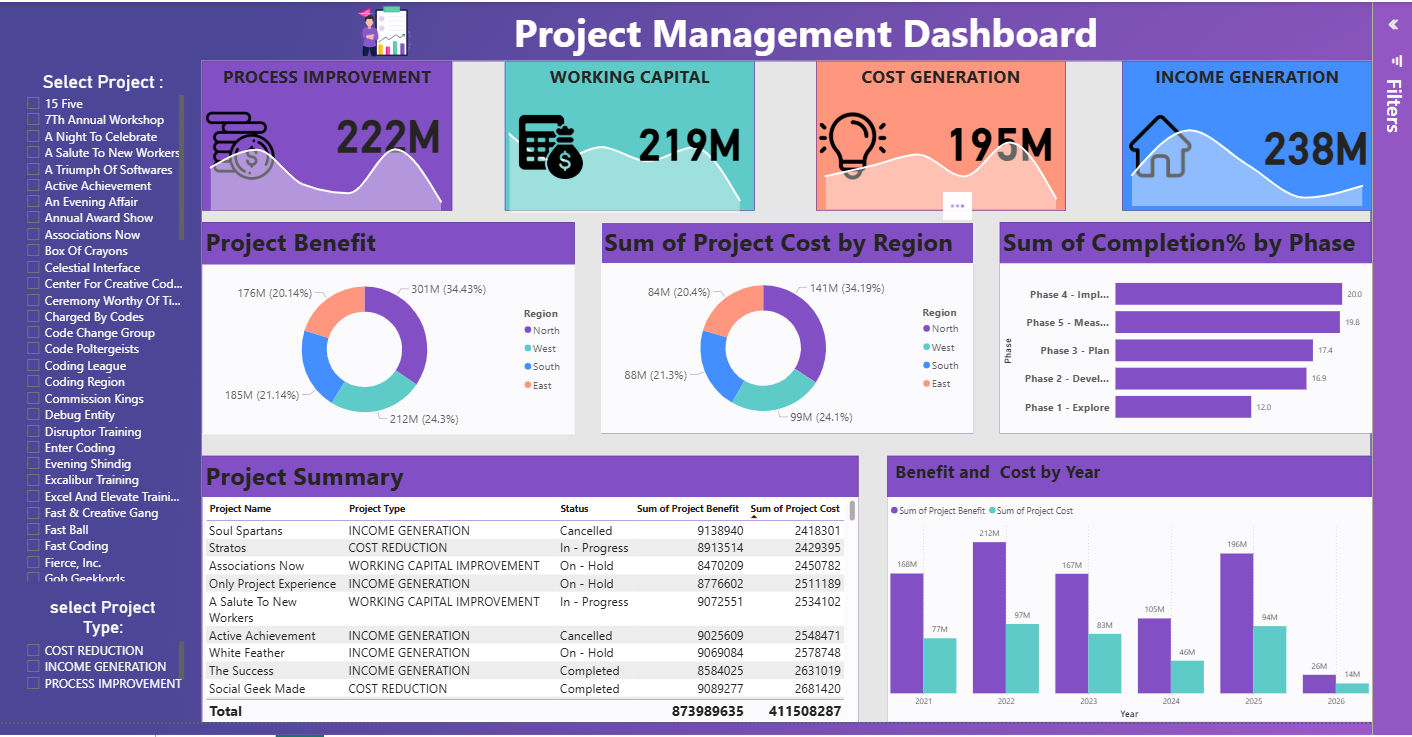

Layout of this report page (visuals, bound fields, positions):
{"tool":"powerbi","page":{"name":"dash pord","canvas":[2100,1100],"ordinal":0},"visuals":[{"type":"shape","box":[312.9,89.7,1785.6,1011.1],"z":0},{"type":"slicer","title":"Select Project :","fields":{"Values":["Project Management Dataset.Project Name"]},"box":[34.3,104.9,257.5,784.1],"z":1000},{"type":"slicer","title":"select Project Type:","fields":{"Values":["Project Management Dataset.Project Type"]},"box":[34.3,908.1,257.5,148.8],"z":2000},{"type":"shape","box":[314.8,89.7,381.5,228.9],"z":3000},{"type":"shape","box":[776.4,89.7,381.5,228.9],"z":4000},{"type":"shape","box":[1251.5,89.7,381.5,228.9],"z":5000},{"type":"shape","box":[1718.8,89.7,381.5,228.9],"z":6000},{"type":"shape","box":[314.8,335.8,568.5,322.4],"z":7000},{"type":"shape","box":[1531.9,335.8,568.5,322.4],"z":8000},{"type":"shape","box":[923.3,335.8,568.5,322.4],"z":9000},{"type":"shape","box":[314.8,692.5,1001.5,408.2],"z":10000},{"type":"shape","box":[1360.2,692.5,740.2,408.2],"z":11000},{"type":"textbox","box":[314.8,89.7,381.5,72.5],"z":12000},{"type":"image","box":[314.8,162.2,116.4,114.5],"z":13000},{"type":"card","fields":{"Values":["Daxpr.proceess"]},"box":[503.6,146.9,190.8,99.2],"z":14000},{"type":"areaChart","fields":{"Y":["Daxpr.proceess"],"Category":["pr.End Date.Variation.Date Hierarchy.Year"]},"box":[312.9,185,381.5,139.3],"z":15000},{"type":"textbox","box":[1718.8,89.7,381.5,72.5],"z":16000},{"type":"textbox","box":[776.4,89.7,381.5,72.5],"z":17000},{"type":"textbox","box":[1251.5,89.7,381.5,72.5],"z":18000},{"type":"textbox","box":[1718.8,89.7,381.5,72.5],"z":19000},{"type":"areaChart","fields":{"Y":["Daxpr.working"],"Category":["pr.End Date.Variation.Date Hierarchy.Year"]},"box":[768.8,171.7,381.5,156.4],"z":20000},{"type":"image","box":[776.4,166,141.2,110.6],"z":21000},{"type":"card","fields":{"Values":["Daxpr.working"]},"box":[959.6,162.2,198.4,91.6],"z":22000},{"type":"image","box":[1251.5,162.2,112.6,114.5],"z":23000},{"type":"card","fields":{"Values":["Daxpr.cost"]},"box":[1436.5,162.2,190.8,91.6],"z":24000},{"type":"image","box":[1718.8,167.9,116.4,104.9],"z":25000},{"type":"card","fields":{"Values":["Daxpr.incme"]},"box":[1928.7,166,171.7,95.4],"z":26000},{"type":"areaChart","fields":{"Y":["Daxpr.incme"],"Category":["pr.End Date.Variation.Date Hierarchy.Year"]},"box":[1718.8,181.2,381.5,135.4],"z":27000},{"type":"areaChart","fields":{"Y":["Daxpr.cost"],"Category":["pr.End Date.Variation.Date Hierarchy.Year"]},"box":[1251.5,188.9,381.5,133.5],"z":28000},{"type":"textbox","box":[923.3,335.8,568.5,64.9],"z":29000},{"type":"textbox","box":[314.8,335.8,568.5,64.9],"z":30000},{"type":"textbox","box":[1531.9,335.8,568.5,64.9],"z":31000},{"type":"donutChart","title":"Project Benefit ","fields":{"Y":["Sum(Project Management Dataset.Project Benefit)"],"Category":["Project Management Dataset.Region"]},"box":[314.8,400.6,568.5,259.4],"z":32000},{"type":"donutChart","fields":{"Y":["Sum(Project Management Dataset.Project Cost)"],"Category":["Project Management Dataset.Region"]},"box":[923.3,398.7,568.5,259.4],"z":33000},{"type":"clusteredBarChart","fields":{"Y":["Sum(pr.Completion%)"],"Category":["pr.Phase"]},"box":[1531.9,398.7,568.5,259.4],"z":34000},{"type":"textbox","box":[314.8,692.5,1001.5,63],"z":35000},{"type":"tableEx","fields":{"Values":["Project Management Dataset.Project Name","Project Management Dataset.Project Type","Project Management Dataset.Status","Sum(Project Management Dataset.Project Benefit)","Sum(Project Management Dataset.Project Cost)"]},"box":[314.8,755.5,1001.5,345],"z":36000},{"type":"clusteredColumnChart","fields":{"Y":["Sum(Project Management Dataset.Project Benefit)","Sum(Project Management Dataset.Project Cost)"],"Category":["pr.End Date.Variation.Date Hierarchy.Year"]},"box":[1360.2,755.5,740.2,343.4],"z":37000},{"type":"textbox","box":[1360.2,692.5,740.2,63],"z":38000},{"type":"image","box":[503.6,0,177.4,89.7],"z":39000},{"type":"textbox","box":[373.9,0,1724.6,89.7],"z":40000}]}

Visuals, with their boxes in screenshot pixels (x1, y1, x2, y2), scaled from the page's 2100x1100 canvas onto the 1412x737 screenshot:
shape: [x1=210, y1=60, x2=1411, y2=736]
"Select Project :" slicer: [x1=23, y1=70, x2=196, y2=596]
"select Project Type:" slicer: [x1=23, y1=608, x2=196, y2=708]
shape: [x1=212, y1=60, x2=468, y2=213]
shape: [x1=522, y1=60, x2=779, y2=213]
shape: [x1=841, y1=60, x2=1098, y2=213]
shape: [x1=1156, y1=60, x2=1411, y2=213]
shape: [x1=212, y1=225, x2=594, y2=441]
shape: [x1=1030, y1=225, x2=1411, y2=441]
shape: [x1=621, y1=225, x2=1003, y2=441]
shape: [x1=212, y1=464, x2=885, y2=736]
shape: [x1=915, y1=464, x2=1411, y2=736]
textbox: [x1=212, y1=60, x2=468, y2=109]
image: [x1=212, y1=109, x2=290, y2=185]
card - Daxpr.proceess: [x1=339, y1=98, x2=467, y2=165]
areaChart - Daxpr.proceess x pr.End Date.Variation.Date Hierarchy.Year: [x1=210, y1=124, x2=467, y2=217]
textbox: [x1=1156, y1=60, x2=1411, y2=109]
textbox: [x1=522, y1=60, x2=779, y2=109]
textbox: [x1=841, y1=60, x2=1098, y2=109]
textbox: [x1=1156, y1=60, x2=1411, y2=109]
areaChart - Daxpr.working x pr.End Date.Variation.Date Hierarchy.Year: [x1=517, y1=115, x2=773, y2=220]
image: [x1=522, y1=111, x2=617, y2=185]
card - Daxpr.working: [x1=645, y1=109, x2=779, y2=170]
image: [x1=841, y1=109, x2=917, y2=185]
card - Daxpr.cost: [x1=966, y1=109, x2=1094, y2=170]
image: [x1=1156, y1=112, x2=1234, y2=183]
card - Daxpr.incme: [x1=1297, y1=111, x2=1411, y2=175]
areaChart - Daxpr.incme x pr.End Date.Variation.Date Hierarchy.Year: [x1=1156, y1=121, x2=1411, y2=212]
areaChart - Daxpr.cost x pr.End Date.Variation.Date Hierarchy.Year: [x1=841, y1=127, x2=1098, y2=216]
textbox: [x1=621, y1=225, x2=1003, y2=268]
textbox: [x1=212, y1=225, x2=594, y2=268]
textbox: [x1=1030, y1=225, x2=1411, y2=268]
"Project Benefit " donutChart: [x1=212, y1=268, x2=594, y2=442]
donutChart - Sum(Project Management Dataset.Project Cost) x Project Management Dataset.Region: [x1=621, y1=267, x2=1003, y2=441]
clusteredBarChart - Sum(pr.Completion%) x pr.Phase: [x1=1030, y1=267, x2=1411, y2=441]
textbox: [x1=212, y1=464, x2=885, y2=506]
tableEx - Project Management Dataset.Project Name x Project Management Dataset.Project Type: [x1=212, y1=506, x2=885, y2=736]
clusteredColumnChart - Sum(Project Management Dataset.Project Benefit) x Sum(Project Management Dataset.Project Cost): [x1=915, y1=506, x2=1411, y2=736]
textbox: [x1=915, y1=464, x2=1411, y2=506]
image: [x1=339, y1=0, x2=458, y2=60]
textbox: [x1=251, y1=0, x2=1411, y2=60]
